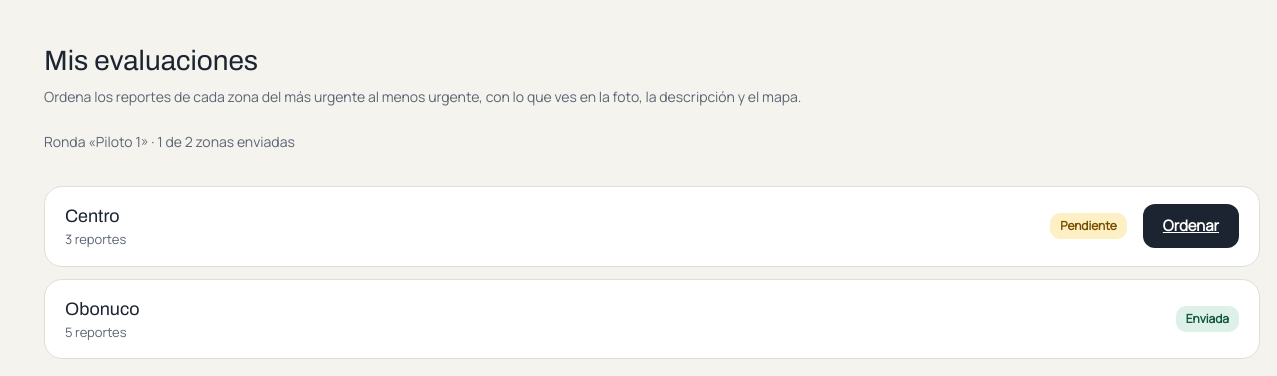
Scenario: Mis evaluaciones › lista las zonas de la ronda con su estado
The width and height of the screenshot is (1277, 376).
Check: the text "Ronda «Piloto 1» · 1 de 2 zonas enviadas" is shown, box [44,132,295,151]
Check: the text "Pendiente" is shown, box [1050,213,1127,239]
Click the link with aria-label "Ordenar la zona Centro" at (1191, 226), box [1143,204,1239,248]
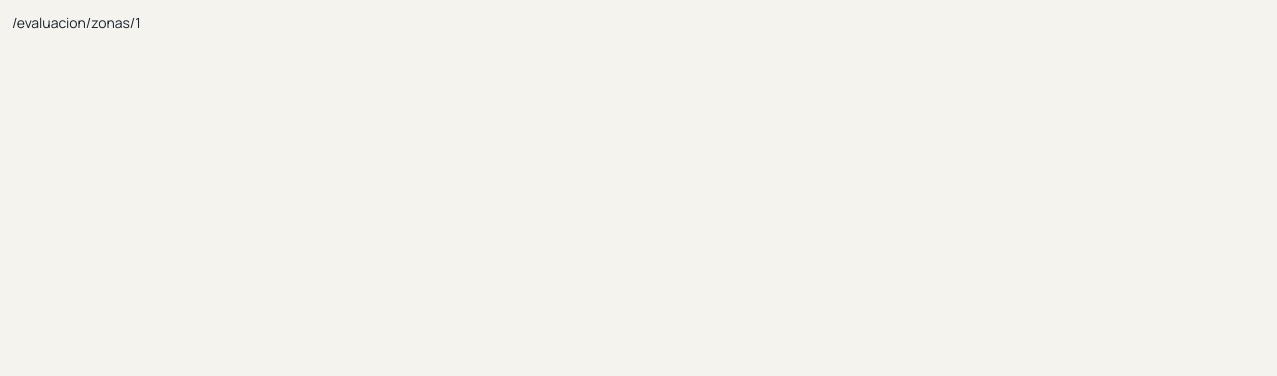
Check: the text with test id "location" reads "/evaluacion/zonas/1", box [12,13,141,32]
